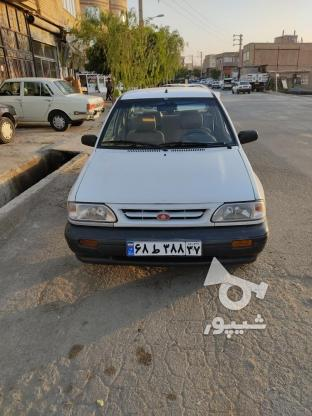car: (126, 241, 201, 256)
